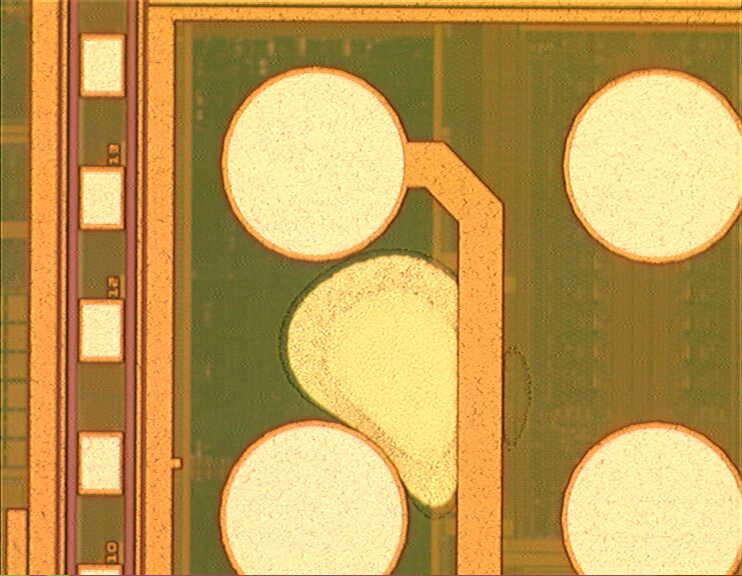BLOCK ETCH: (275, 249, 535, 522)
